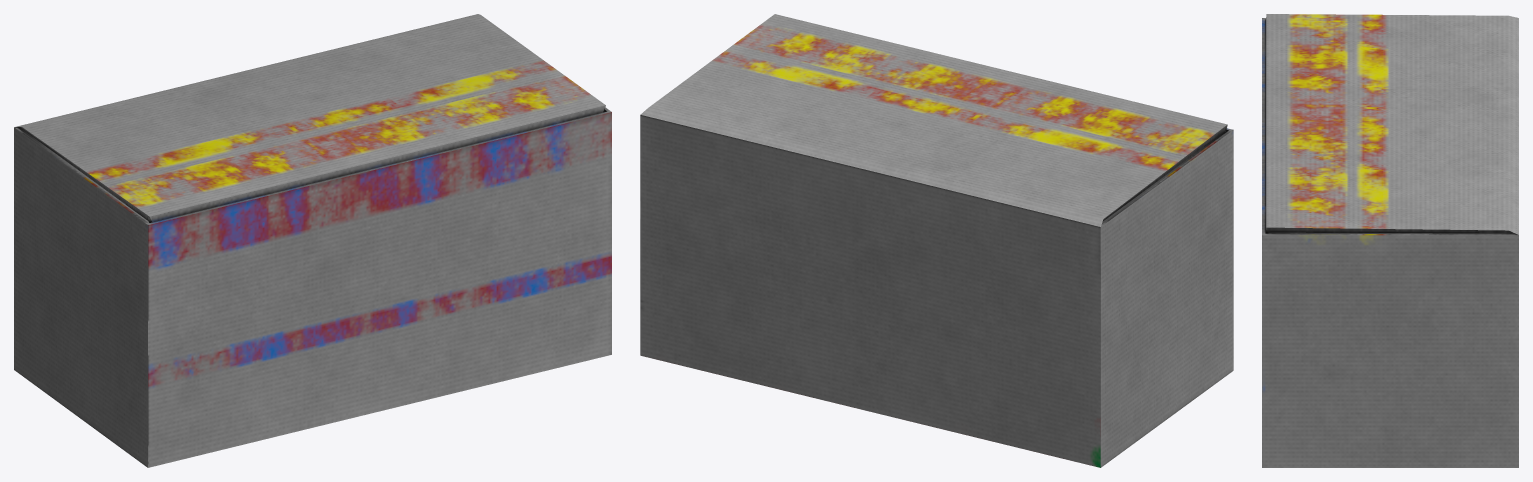
File: props_2.fbx
3 views of the same model, side by side, from view 1: azimuth 30°, elevation 25°; view 2: azimuth 150°, elevation 25°; view 3: azimuth 270°, elevation 25° (orthographic). The views are drawn at different scales.
Visible parts, largest first — view 1: props_2; view 2: props_2; view 3: props_2.
Part boxes in pixels (box(x1,y1,x2,y2)): props_2: box(14, 14, 611, 467); props_2: box(640, 14, 1233, 467); props_2: box(1262, 14, 1518, 467).
Bounding box in the file's own units: 20 × 10.25 × 10.
